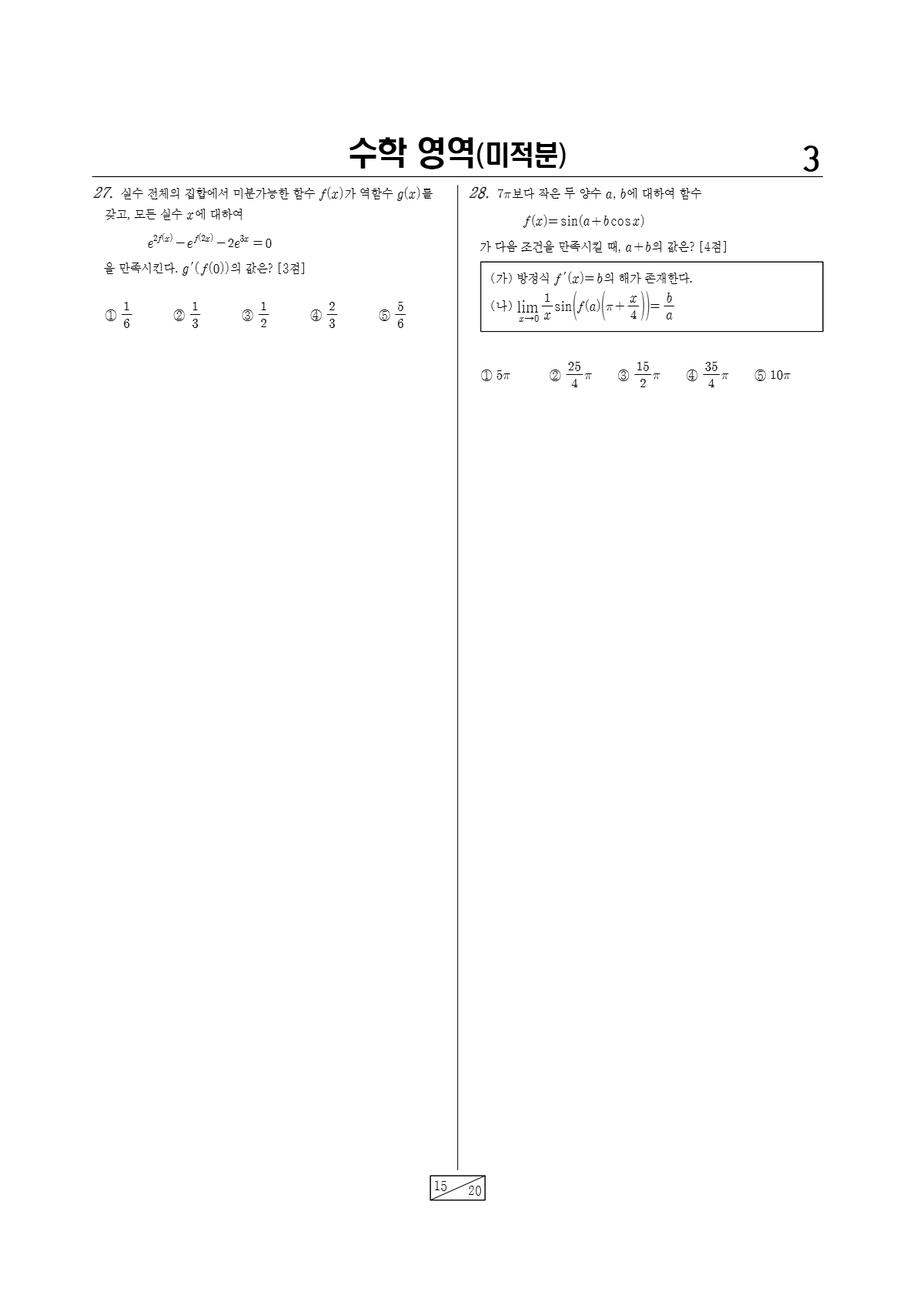opt_1: (480, 367, 493, 382), (105, 309, 116, 321)
opt_2: (549, 366, 562, 381), (172, 308, 185, 322)
opt_3: (241, 308, 254, 321), (617, 367, 628, 381)
opt_4: (306, 306, 323, 323), (685, 368, 698, 382)
opt_5: (377, 307, 390, 322), (754, 368, 766, 381)
